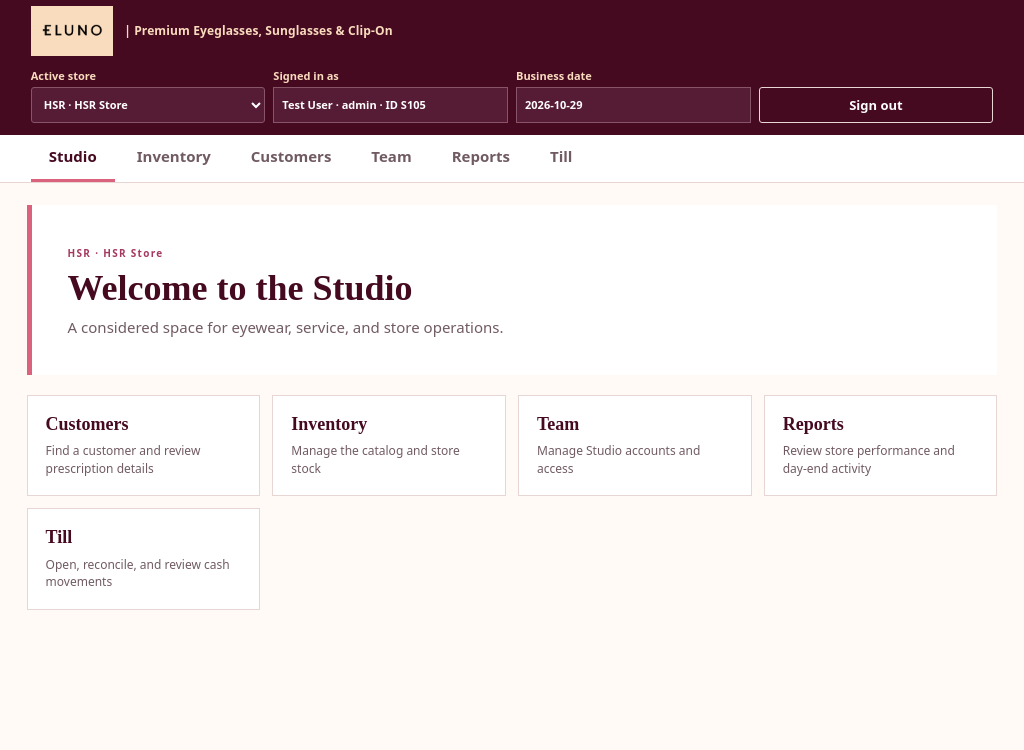
Test case: browser POS workflows › requires a separate confirmation before archiving and keeps stock edits separate
The width and height of the screenshot is (1024, 750).
Click the button "Inventory". click: {"x": 174, "y": 158}
box: [119,135,229,182]
(page scrolled)
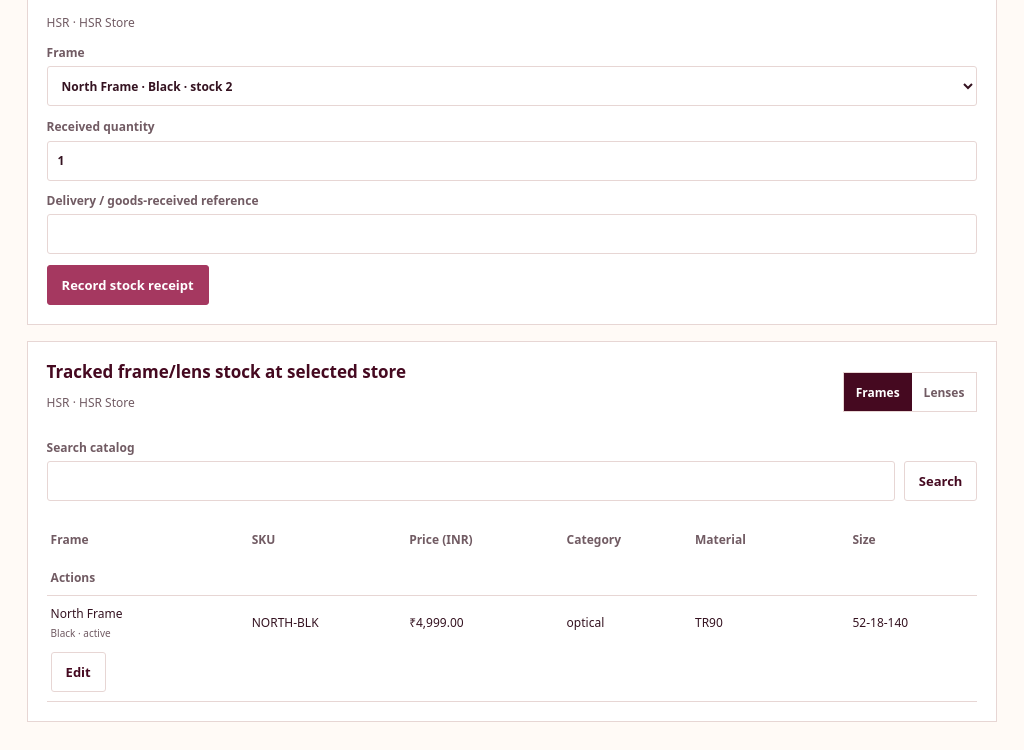
Click the button with aria-label "Edit North Frame". click: {"x": 78, "y": 672}
box: [51,652,106,692]
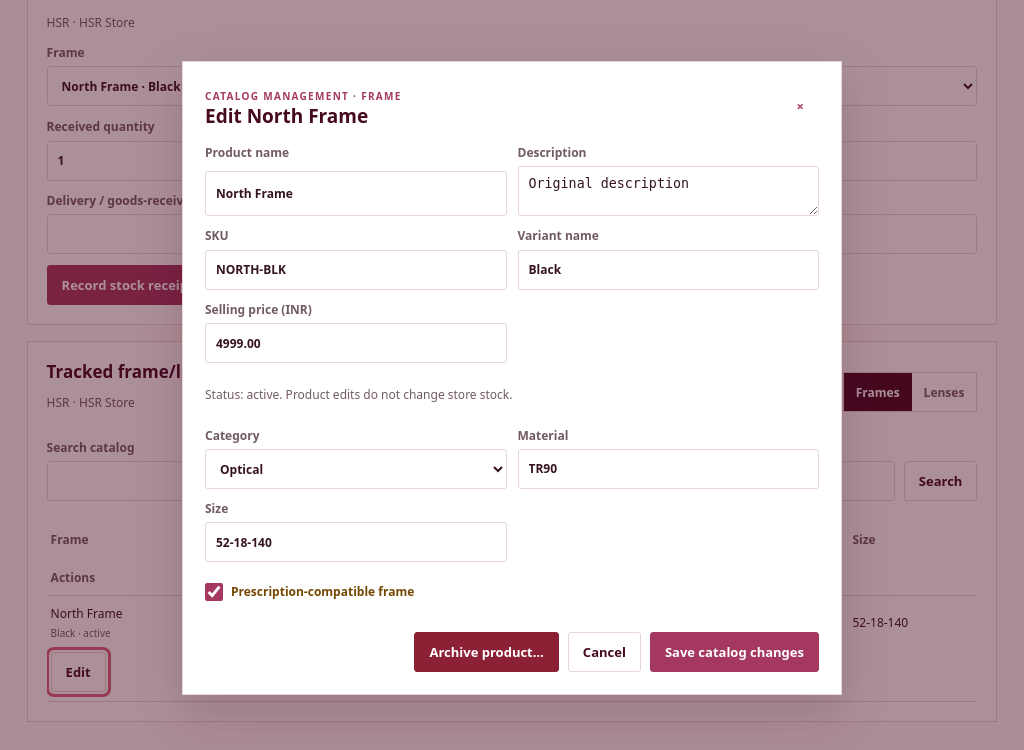
Click the button "Archive product…". click: {"x": 487, "y": 652}
box: [414,632,559,672]
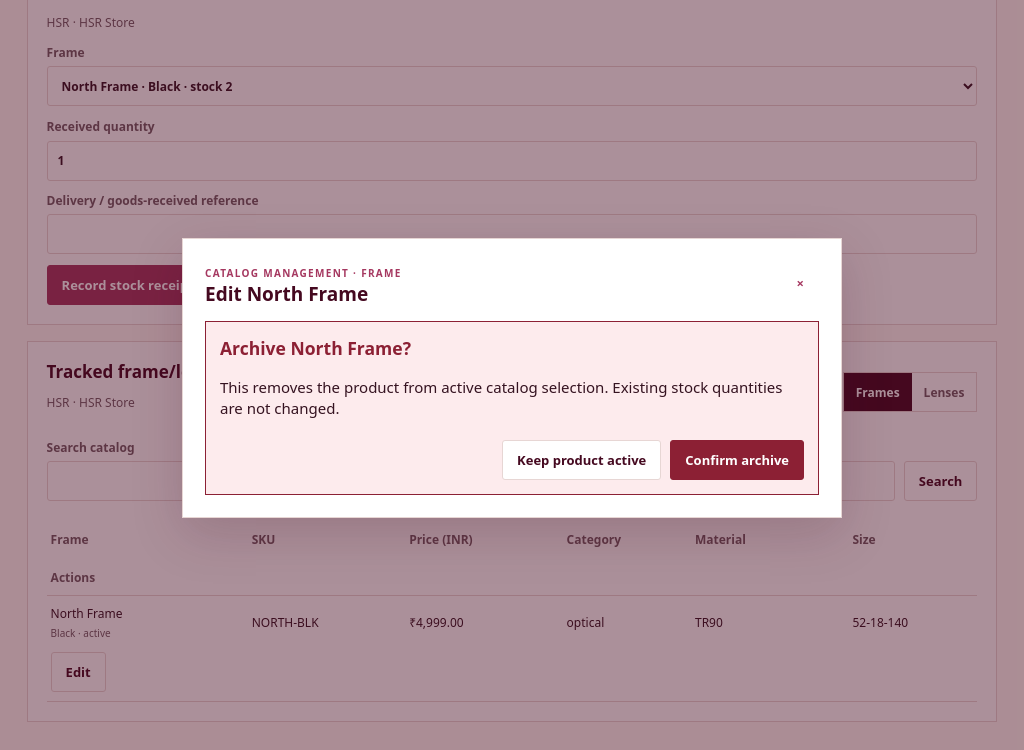
Now the heading "Archive North Frame?" is shown, box [220,336,411,360]
Click the button "Confirm archive". click: {"x": 737, "y": 460}
box: [670,440,804,480]
(page scrolled)
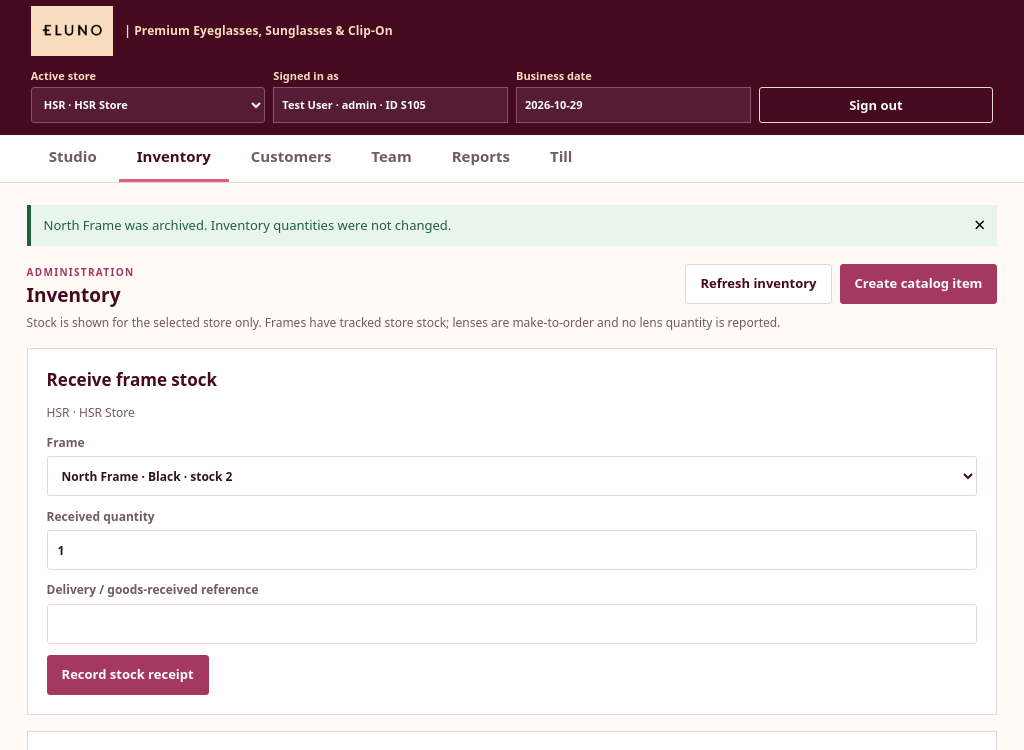
Now the text "North Frame was archived. Inventory quantities were not changed." is shown, box [44,216,451,234]
